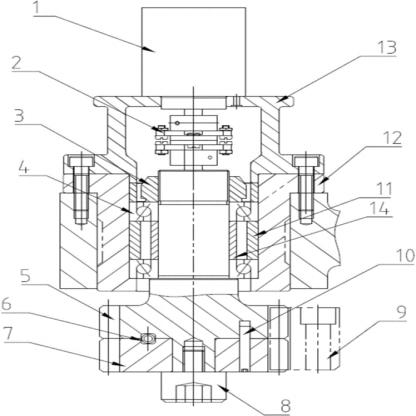FOD: (127, 173, 262, 283)
